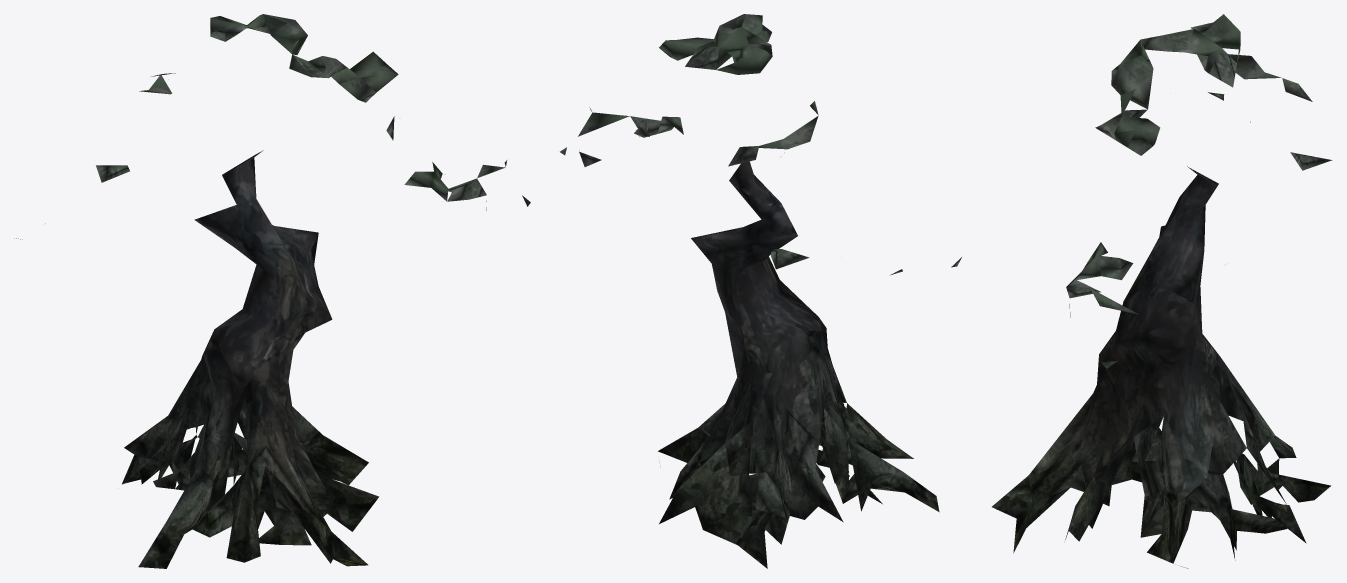
Rendered from swamp-tree-1.glb.
The picture shows the model from 3 angles, left to right: view 1: azimuth 30°, elevation 25°; view 2: azimuth 150°, elevation 25°; view 3: azimuth 270°, elevation 25°; orthographic projection. The views are drawn at different scales.
Visible parts, largest first — view 1: geometry_0; view 2: geometry_0; view 3: geometry_0.
Boxes of the visible parts, left/top/right/bottom form: geometry_0: left=14, top=14, right=530, bottom=568; geometry_0: left=560, top=14, right=961, bottom=568; geometry_0: left=992, top=14, right=1332, bottom=568.
Size of the model in its own units: 0.8591 by 0.8895 by 0.5303.
Materials: 1 (1 with a texture image).
